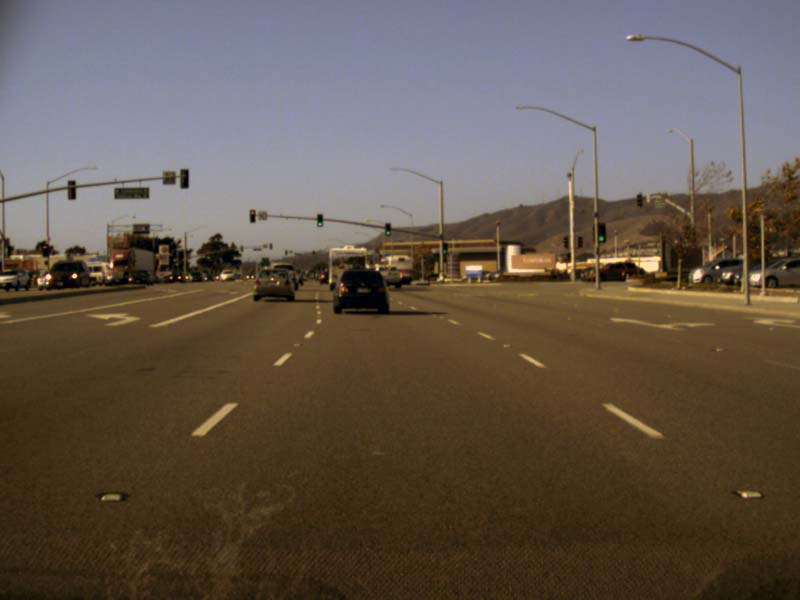Green: (597, 223, 605, 243), (384, 222, 391, 236), (317, 213, 323, 227), (442, 243, 447, 253)
Red: (42, 244, 48, 256)
